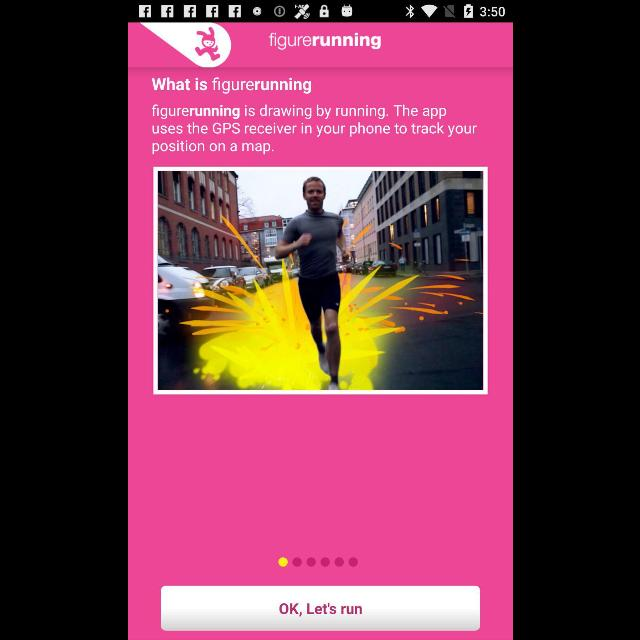image: (153, 167, 487, 395), (137, 22, 230, 68)
pageindicator: (278, 557, 358, 567)
text: (151, 104, 477, 156), (151, 78, 311, 94), (268, 32, 380, 50)
textbutton: (160, 586, 480, 630)
uppertaskbar: (128, 1, 512, 23)
